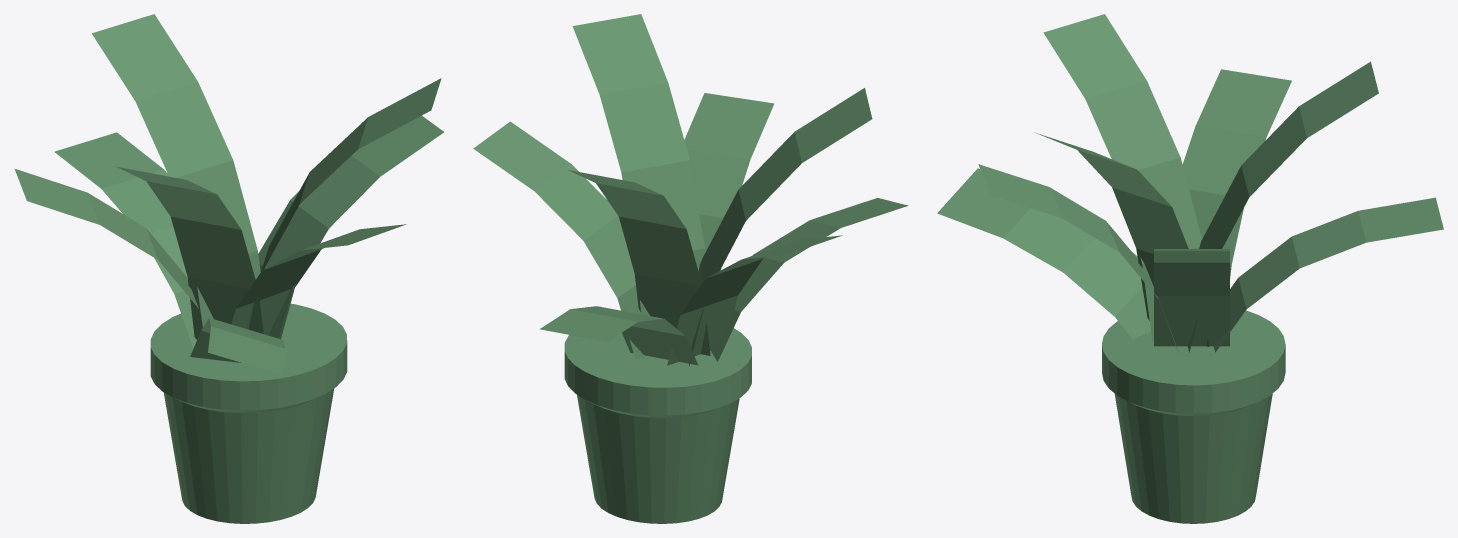
The model's file is plant.fbx.
The picture shows the model from 3 angles, left to right: view 1: azimuth 30°, elevation 25°; view 2: azimuth 150°, elevation 25°; view 3: azimuth 270°, elevation 25°; orthographic projection. The views are drawn at different scales.
Visible parts, largest first — view 1: plant; view 2: plant; view 3: plant.
Boxes of the visible parts, x1,y1,x2,y2 form: plant: (14, 14, 443, 523); plant: (473, 14, 908, 523); plant: (937, 14, 1443, 523).
Size of the model in its own units: 83.04 by 87.36 by 97.51.
